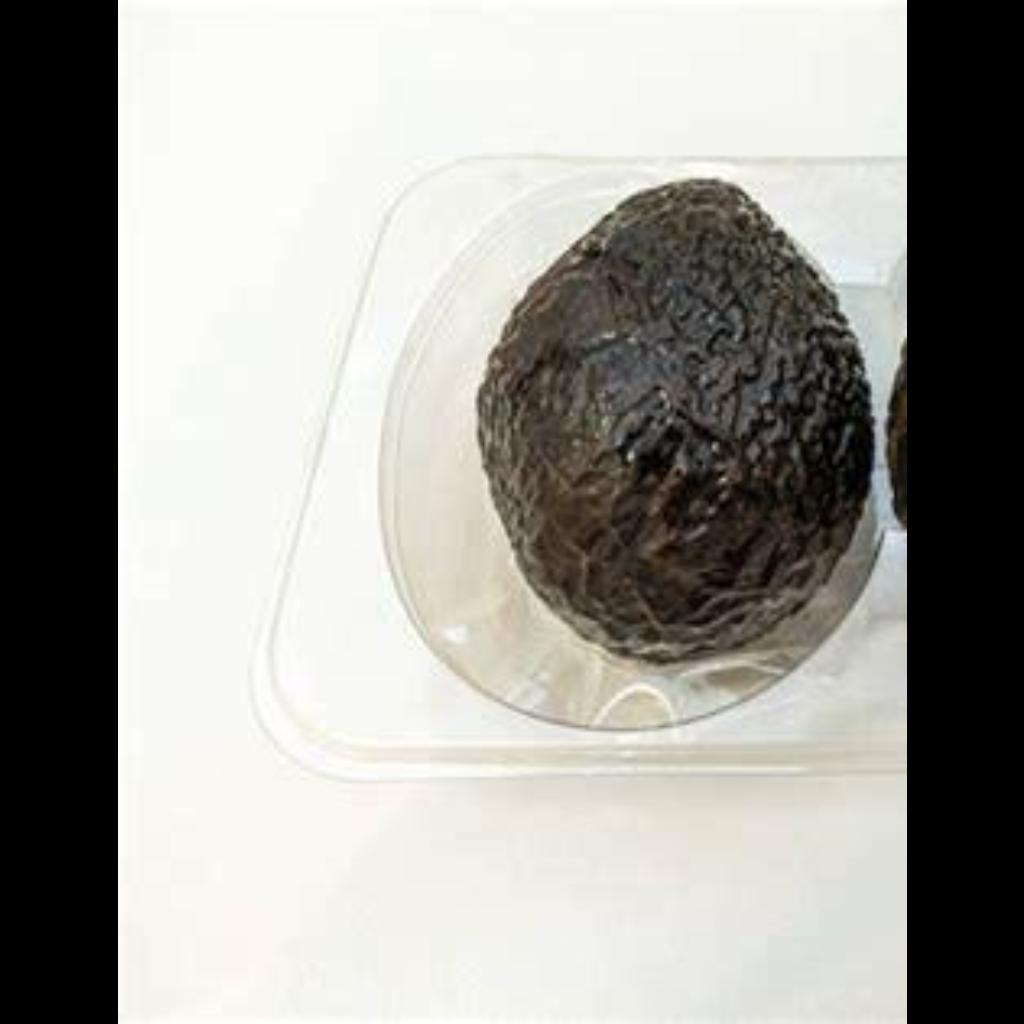antracnosis_fruto: (502, 169, 876, 631)
